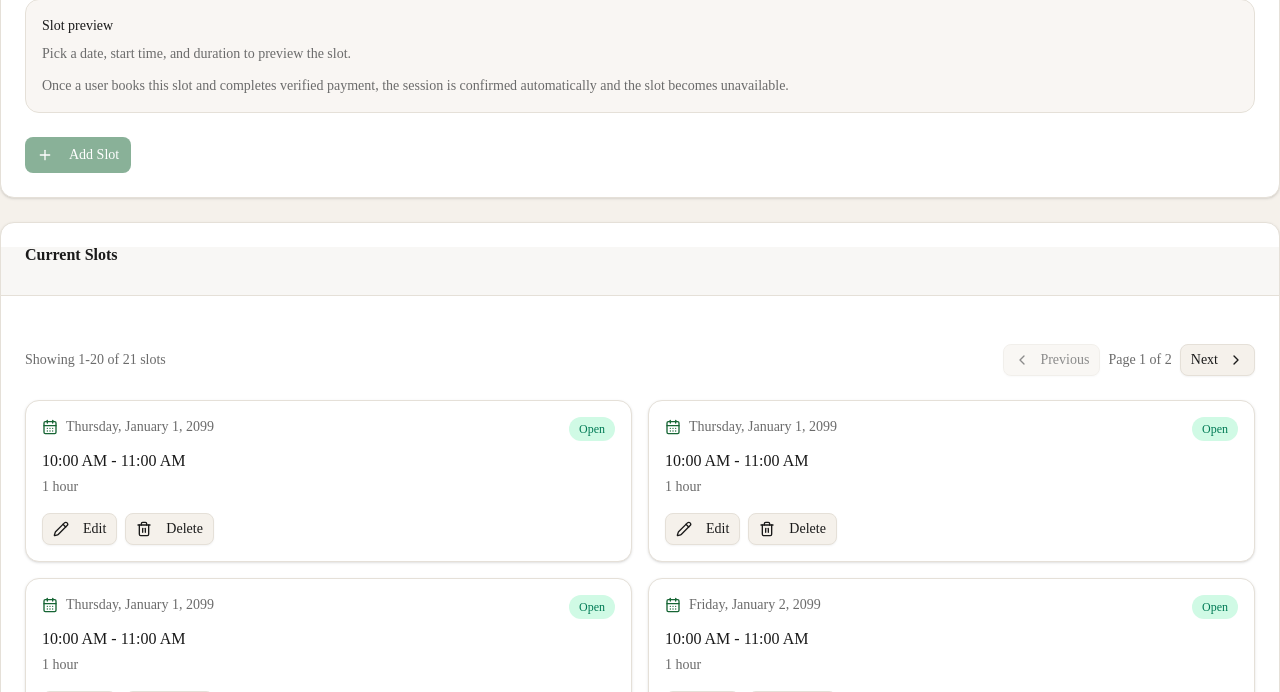
Therapist availability management › paginates slot cards at 20 per page
(page scrolled)
Expected: the text "Showing 1-20 of 21 slots" is shown, [25,350,166,370]
Click the button "Next" at (1217, 360), box [1180,344,1255,376]
(page scrolled)
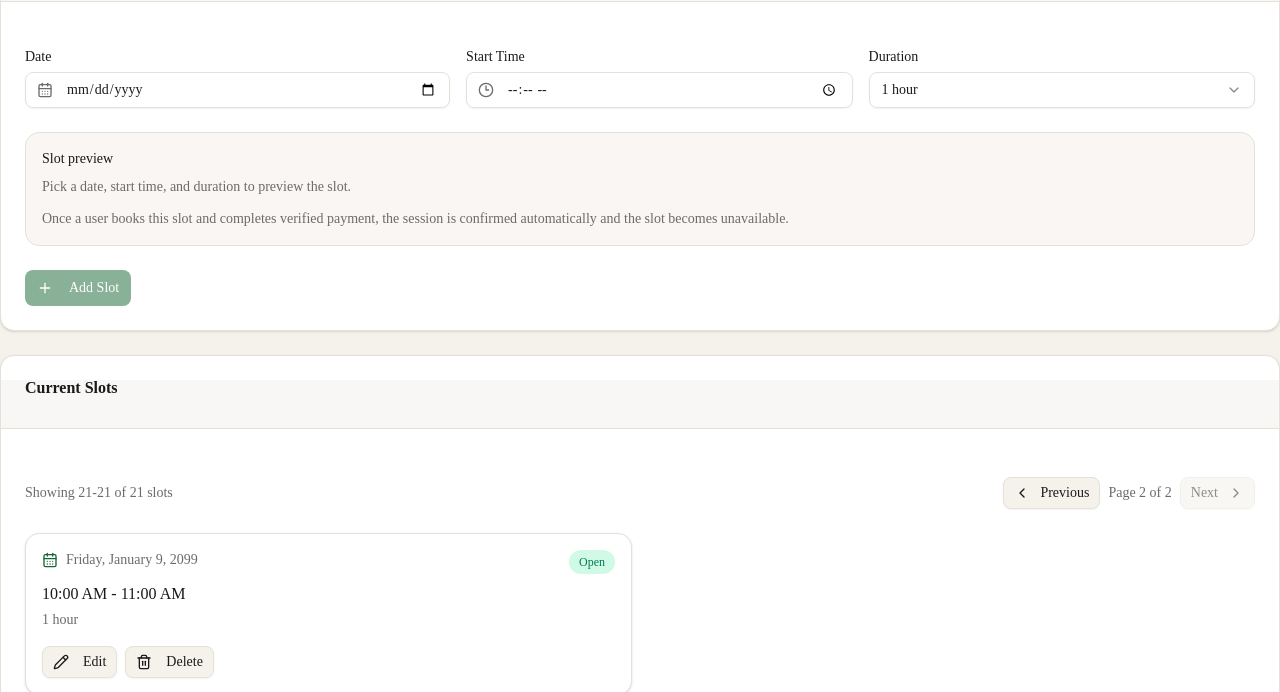
Expected: the text "Showing 21-21 of 21 slots" is shown, [25,483,173,503]
